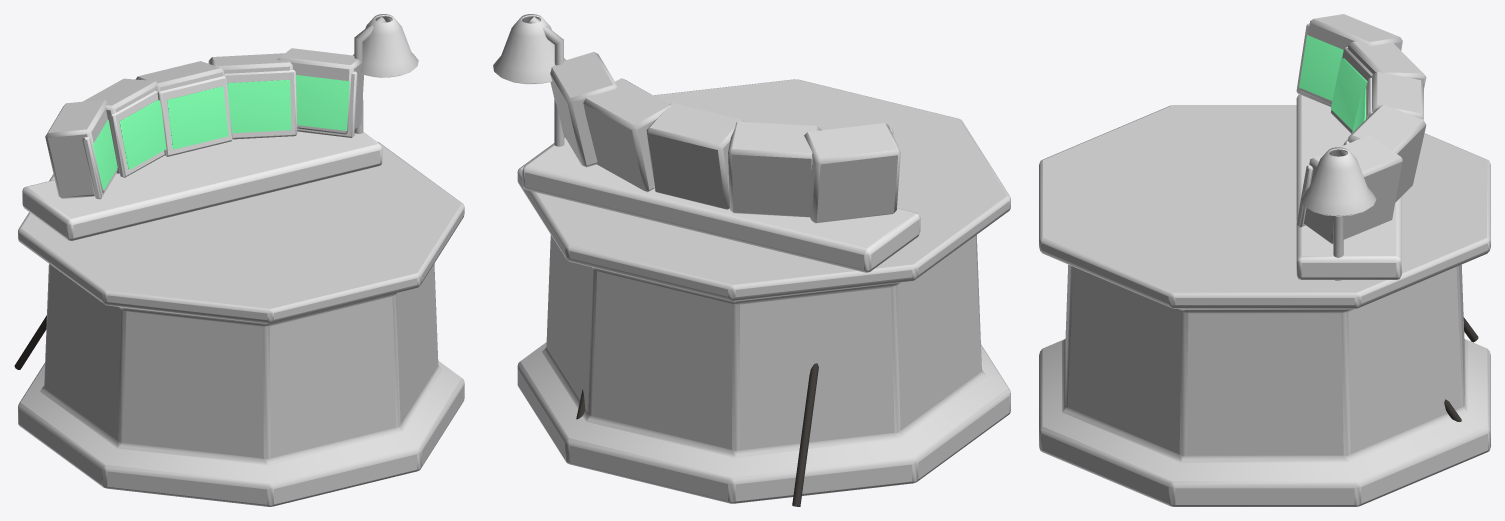
Rendered from prop_traffic_traffic-lead.glb.
3 renders of one model, left to right at view 1: azimuth 30°, elevation 25°; view 2: azimuth 150°, elevation 25°; view 3: azimuth 270°, elevation 25°, orthographic. The views are drawn at different scales.
Parts seen in each view (by area): view 1: ground__iron_decay, ground__brass_pipe, ground__phosphor_dim, ground__trim_brass, bell__brass_pipe; view 2: ground__iron_decay, ground__brass_pipe, bell__brass_pipe, ground__cable; view 3: ground__iron_decay, ground__brass_pipe, ground__phosphor_dim, bell__brass_pipe, ground__trim_brass.
Boxes of the visible parts, box(x1,y1,x2,y2) form: ground__iron_decay: box(18, 16, 464, 506); ground__brass_pipe: box(22, 131, 382, 240); ground__phosphor_dim: box(92, 75, 349, 190); ground__trim_brass: box(82, 69, 357, 199); bell__brass_pipe: box(353, 14, 418, 77); ground__iron_decay: box(517, 17, 1010, 503); ground__brass_pipe: box(522, 136, 920, 272); bell__brass_pipe: box(493, 14, 565, 84); ground__cable: box(576, 363, 818, 506); ground__iron_decay: box(1039, 14, 1490, 506); ground__brass_pipe: box(1296, 94, 1401, 279); ground__phosphor_dim: box(1299, 35, 1367, 145); bell__brass_pipe: box(1300, 147, 1376, 216); ground__trim_brass: box(1296, 23, 1372, 227).
Size of the model in its own units: 1.84 by 1.5 by 1.72.
